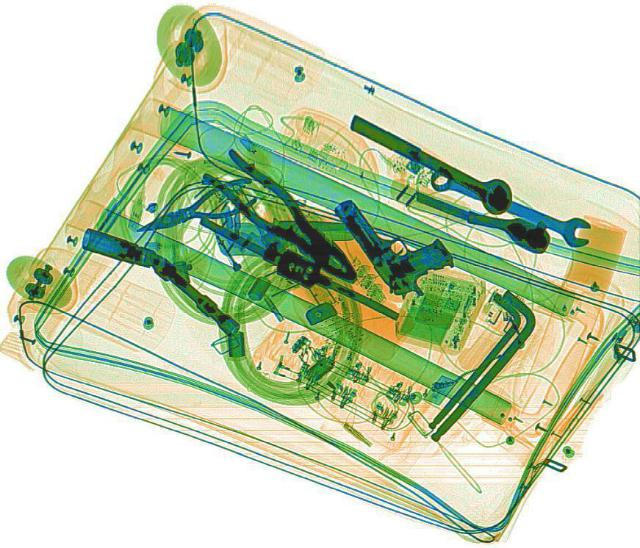Gun: (324, 175, 466, 303)
Pliers: (193, 143, 375, 291), (120, 161, 270, 253)
Wrench: (420, 160, 598, 250)
